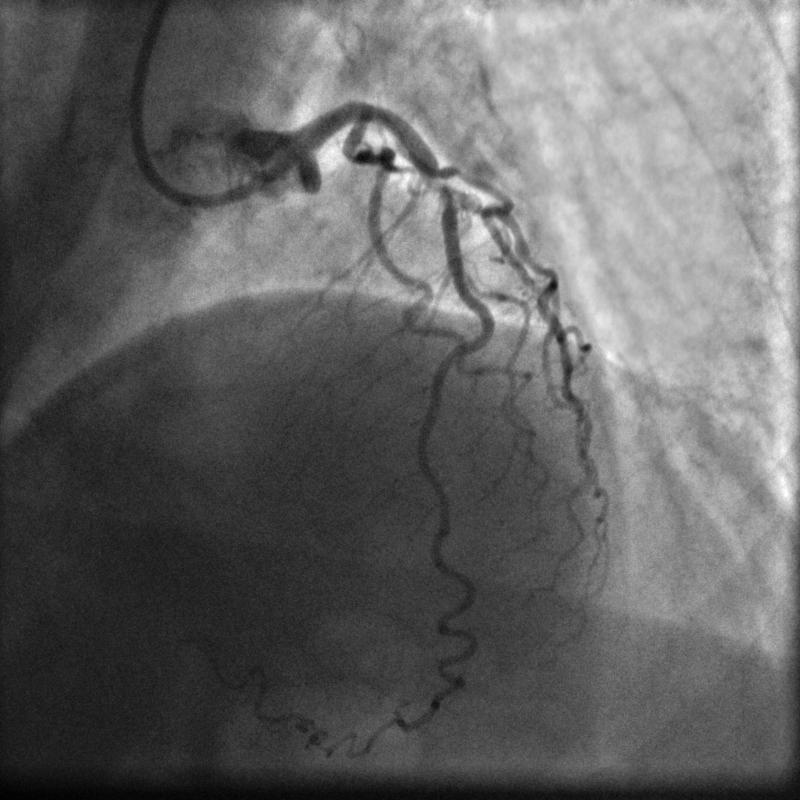Stenosis: (421, 170, 452, 196)
